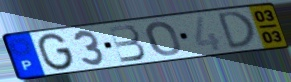3: (73, 28, 106, 68)
4: (194, 14, 224, 52)
B: (106, 24, 148, 64)
D: (216, 9, 259, 51)
G: (36, 32, 76, 72)
O: (145, 21, 183, 58)
